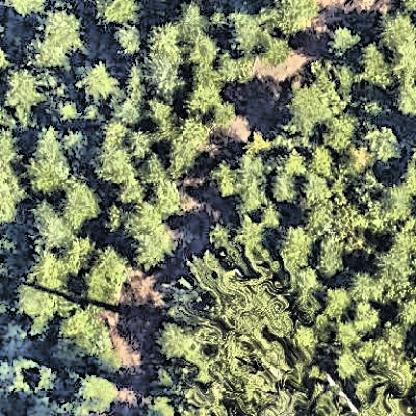tree-top: (22, 8, 86, 70), (81, 247, 130, 319), (25, 128, 74, 197), (127, 204, 175, 266), (1, 63, 45, 125), (285, 86, 336, 139), (221, 155, 270, 210), (275, 222, 322, 277), (1, 130, 26, 227), (14, 279, 63, 328), (89, 146, 141, 189), (223, 9, 265, 59), (373, 240, 414, 290), (145, 62, 192, 105), (308, 238, 353, 281), (380, 16, 416, 68), (68, 315, 111, 358), (354, 40, 394, 86), (267, 1, 321, 35), (30, 206, 70, 250), (77, 59, 116, 102), (193, 32, 229, 76), (95, 1, 144, 33), (29, 252, 70, 290), (166, 138, 203, 179), (73, 375, 123, 405), (150, 178, 186, 219), (267, 163, 301, 205), (149, 25, 188, 61), (379, 187, 416, 224), (146, 97, 179, 138), (65, 186, 97, 225), (370, 121, 401, 161), (325, 113, 355, 154), (111, 91, 146, 126), (187, 82, 220, 119), (159, 321, 193, 356), (234, 217, 266, 254), (321, 283, 353, 319), (301, 172, 332, 209), (114, 24, 146, 58), (352, 298, 382, 334), (176, 1, 209, 33), (353, 269, 384, 302), (328, 348, 360, 379), (330, 318, 360, 351), (1, 363, 32, 392), (263, 37, 292, 66), (331, 26, 358, 55), (4, 1, 52, 17), (398, 293, 416, 333)
